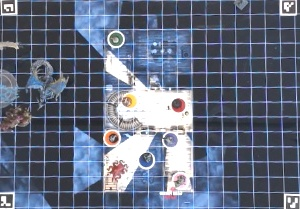blue: (134, 149, 161, 171)
green: (107, 29, 127, 47)
orange: (103, 128, 121, 149)
pink: (170, 169, 191, 192)
red: (171, 96, 189, 116)
violet: (163, 130, 180, 149)
yellow: (121, 90, 140, 111)
